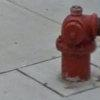Hydrant: (54, 4, 100, 94)
